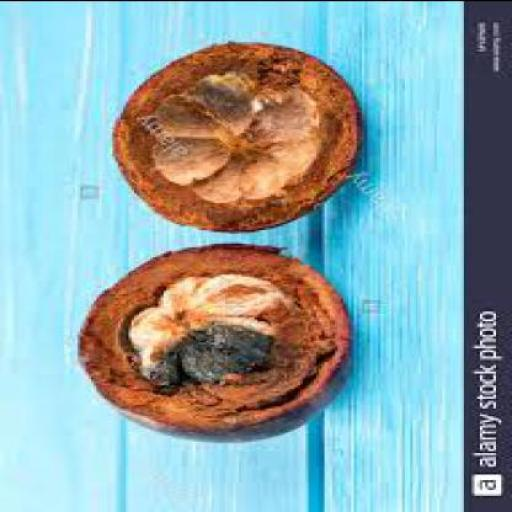biodegradable: (75, 244, 351, 444), (110, 42, 361, 231), (177, 316, 276, 388), (180, 272, 284, 326), (121, 308, 182, 353), (147, 278, 199, 328), (136, 344, 180, 394)
